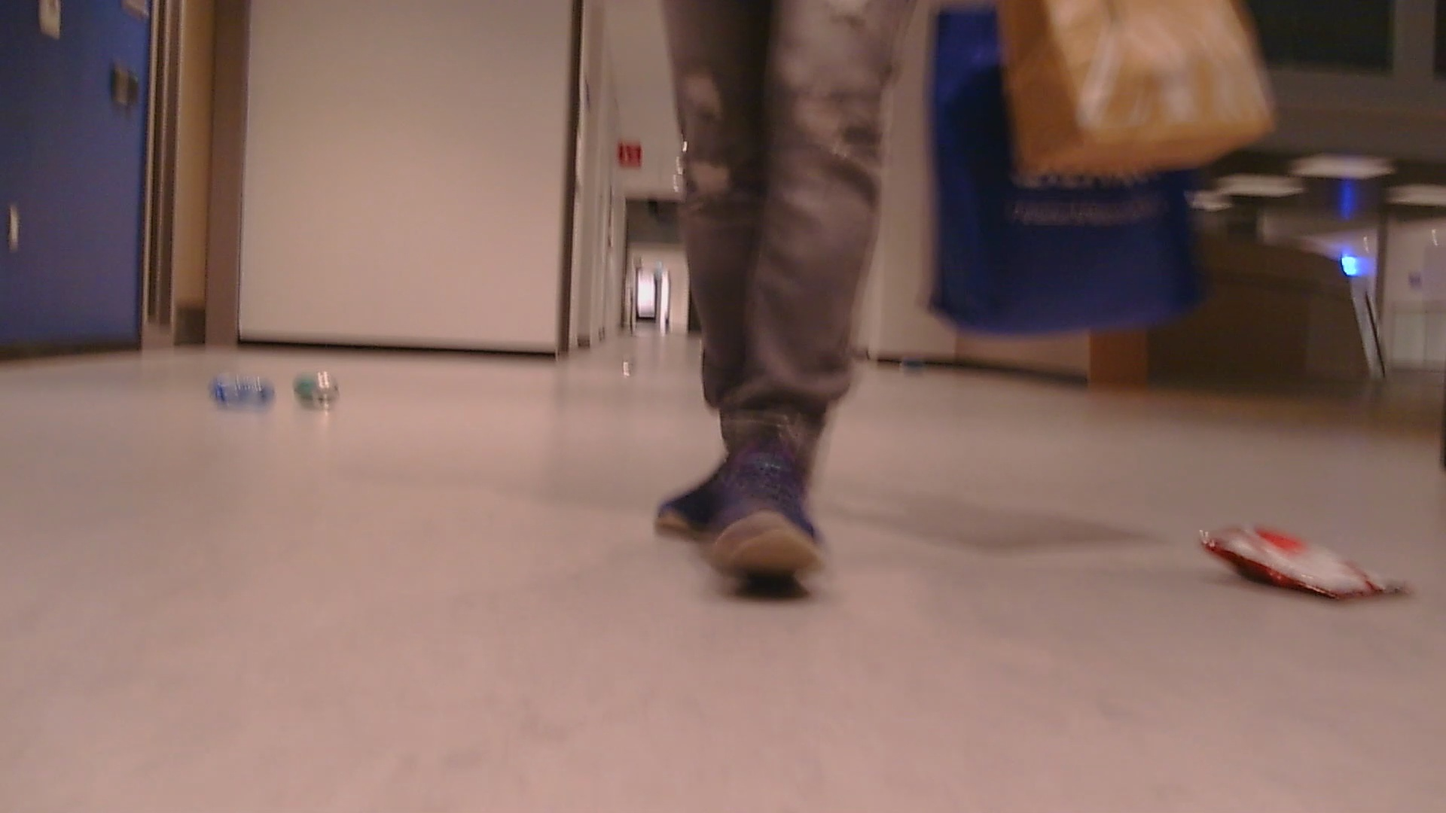carton: (1182, 494, 1418, 629), (285, 349, 359, 428), (193, 373, 277, 425)
